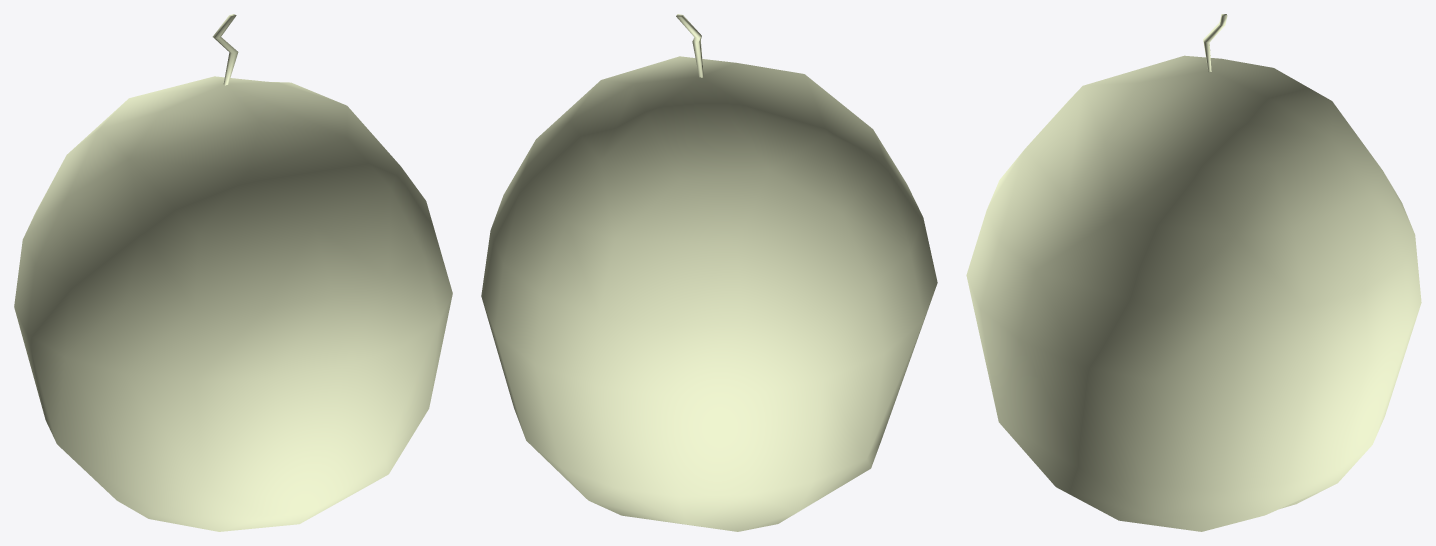
Rendered from FP_watermelon.FBX.
The picture shows the model from 3 angles, left to right: view 1: azimuth 30°, elevation 25°; view 2: azimuth 150°, elevation 25°; view 3: azimuth 270°, elevation 25°; orthographic projection. The views are drawn at different scales.
Visible parts, largest first — view 1: FP_watermelon; view 2: FP_watermelon; view 3: FP_watermelon.
Part boxes in pixels (box(x1,y1,x2,y2)): FP_watermelon: box(14, 14, 452, 531); FP_watermelon: box(481, 14, 937, 531); FP_watermelon: box(966, 14, 1421, 531).
Bounding box in the file's own units: 0.1332 × 0.1656 × 0.135.
